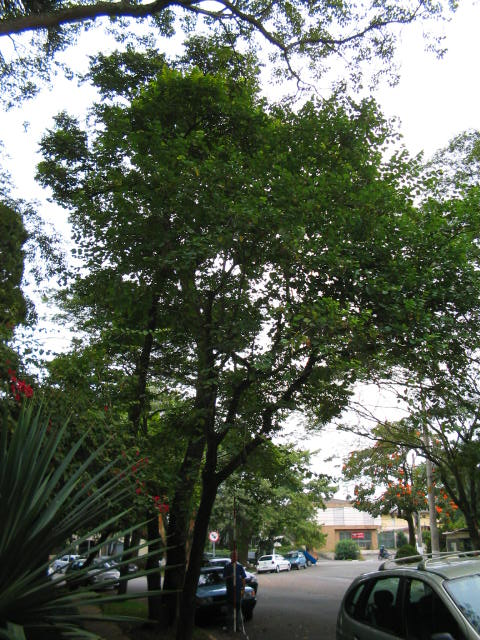crown: (38, 43, 470, 407)
stem: (179, 481, 222, 639)
stick: (229, 495, 241, 635)
tree: (36, 41, 474, 640)
